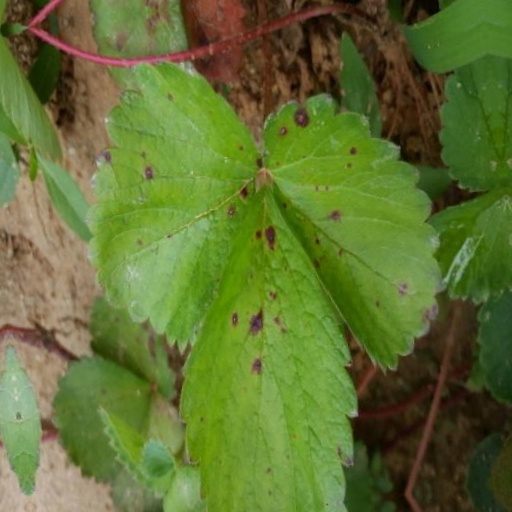Leaf Spot: (158, 0, 341, 329), (87, 166, 274, 463), (273, 119, 443, 409), (30, 45, 137, 182), (78, 122, 164, 240)
